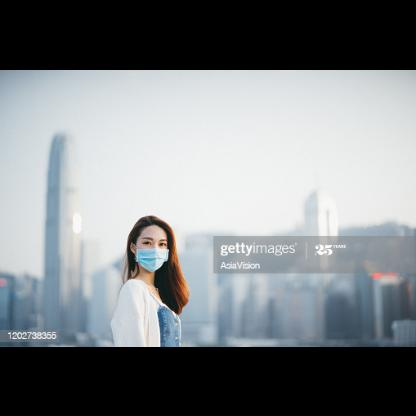Surgical Mask: (126, 212, 178, 274)
